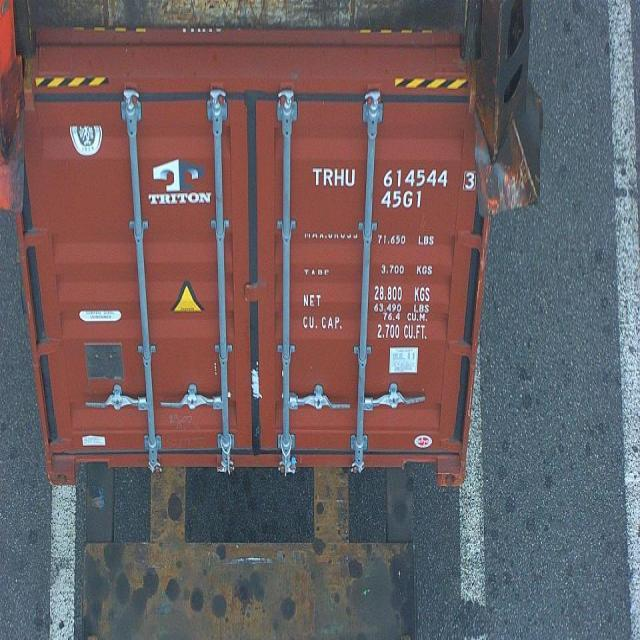ISO: (381, 190, 424, 210)
container_number: (313, 166, 506, 190)
